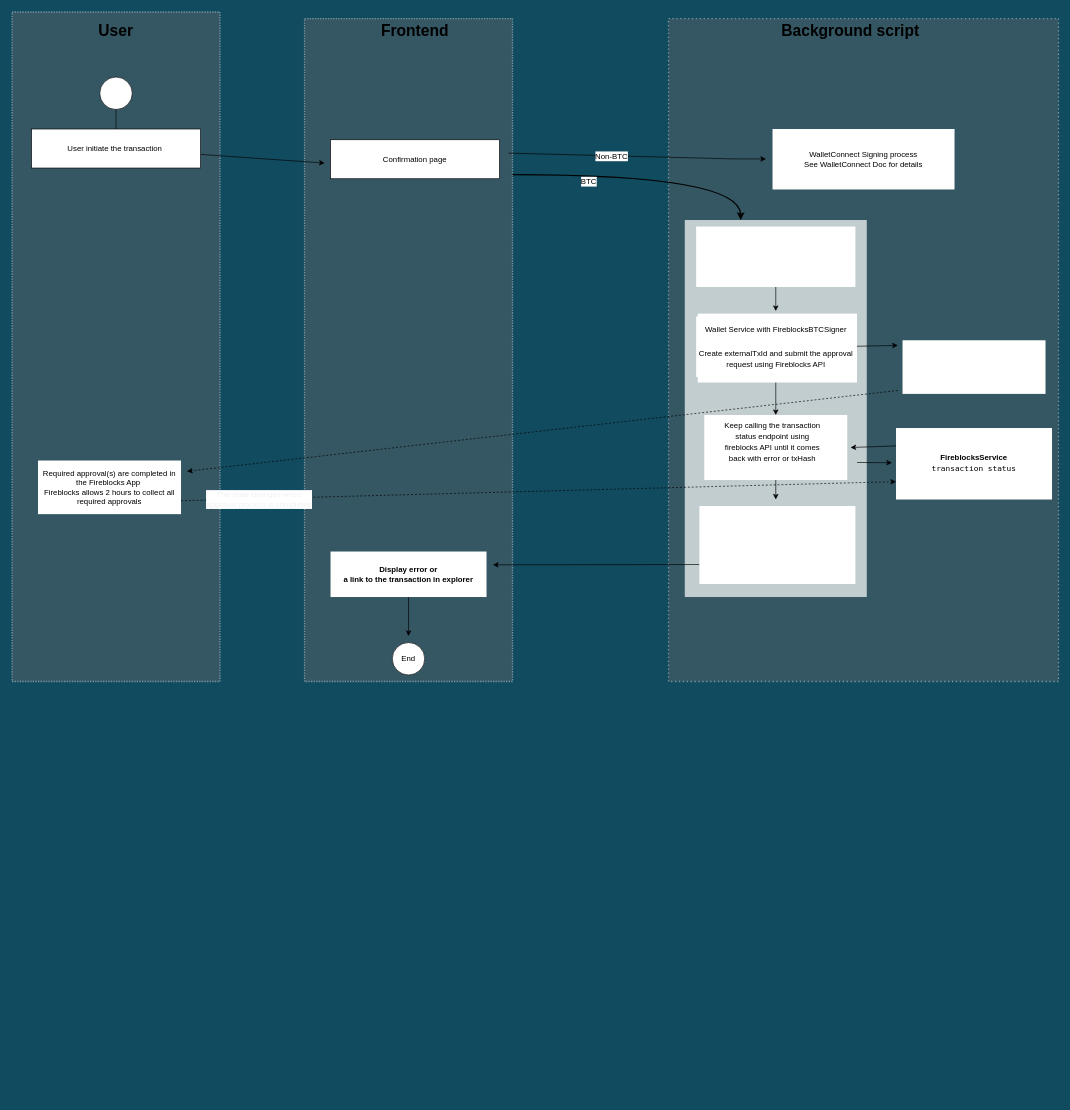
Image size: 1070x1110. Some labels were removed from this diagram. Each missing label, with the centre of its shape:
FireblocksService Create transaction: [973,367]
Handler Calls Wallet Service to create the transaction: [775,256]
If error, throws an exception. If success, returns TransactionResponse: [777,545]
Start: [115,93]
